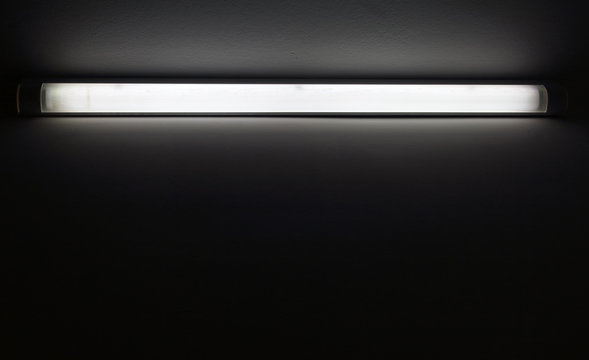TubeLight: (14, 75, 554, 136)
